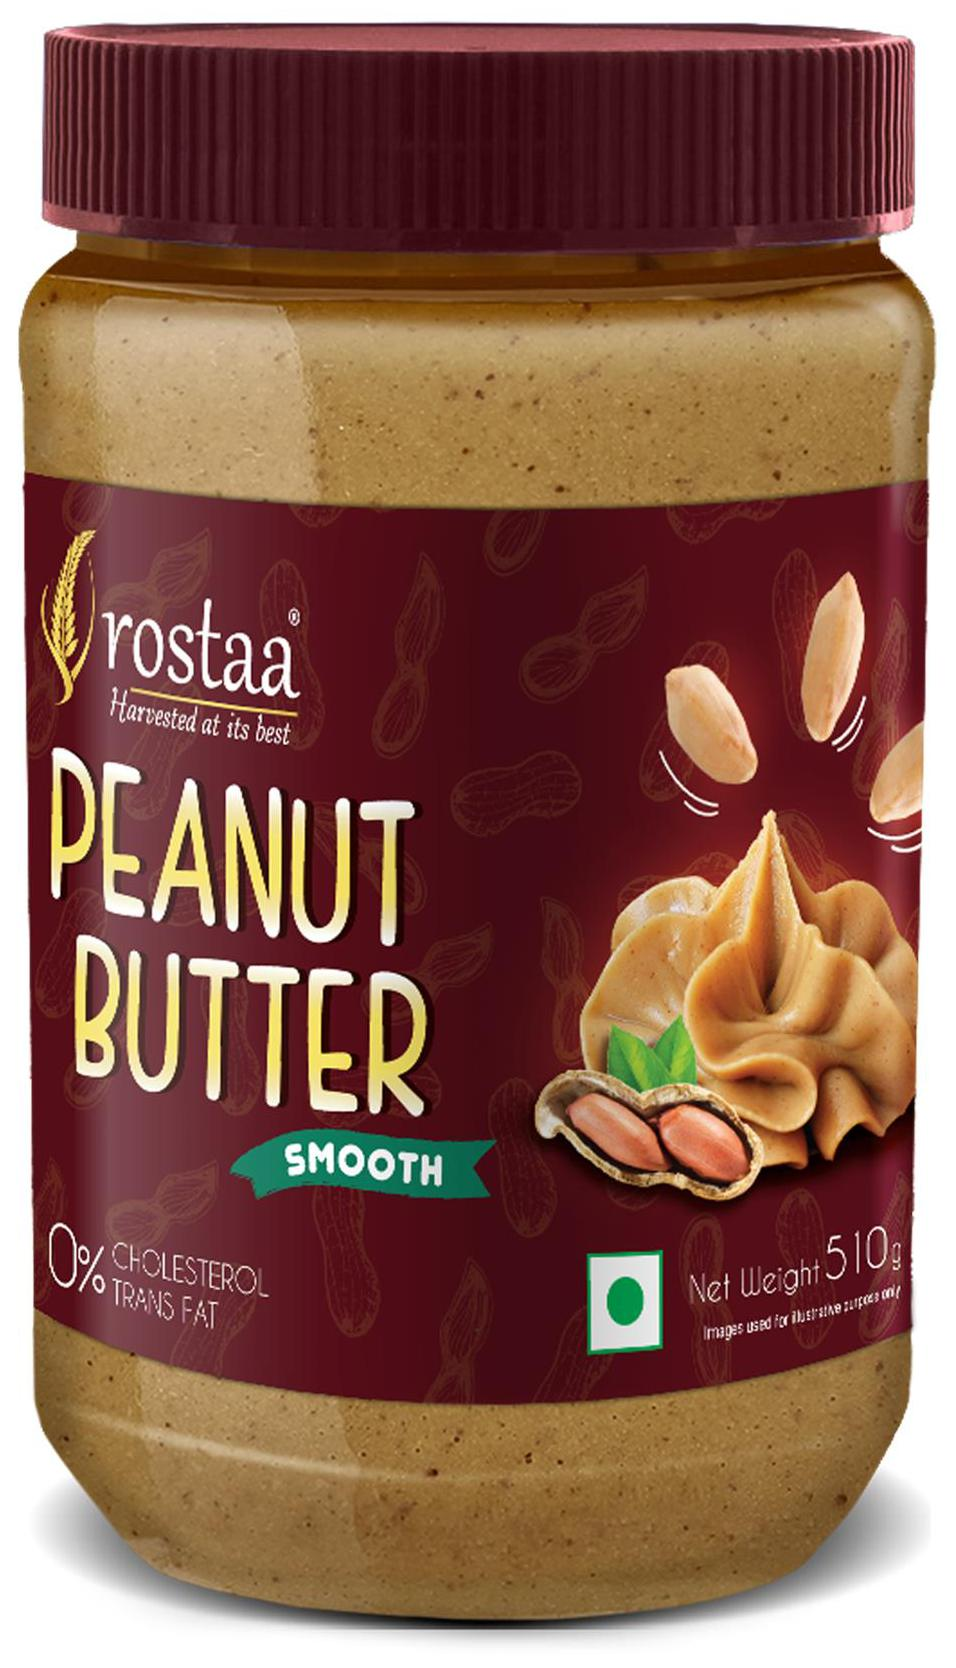JAR: (15, 7, 948, 1628)
